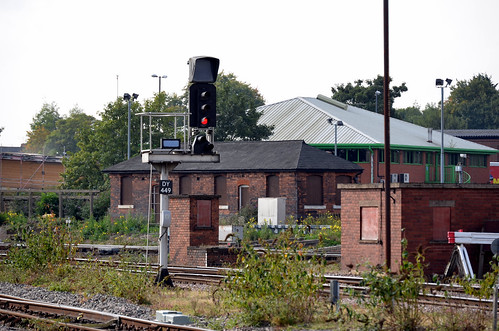building: (260, 103, 488, 244), (115, 138, 349, 233), (340, 177, 496, 273)
sky: (1, 1, 499, 70)
train track: (129, 255, 498, 310), (1, 284, 196, 331)
tree: (64, 103, 148, 198), (209, 67, 268, 138), (334, 73, 405, 116), (443, 74, 499, 128)
